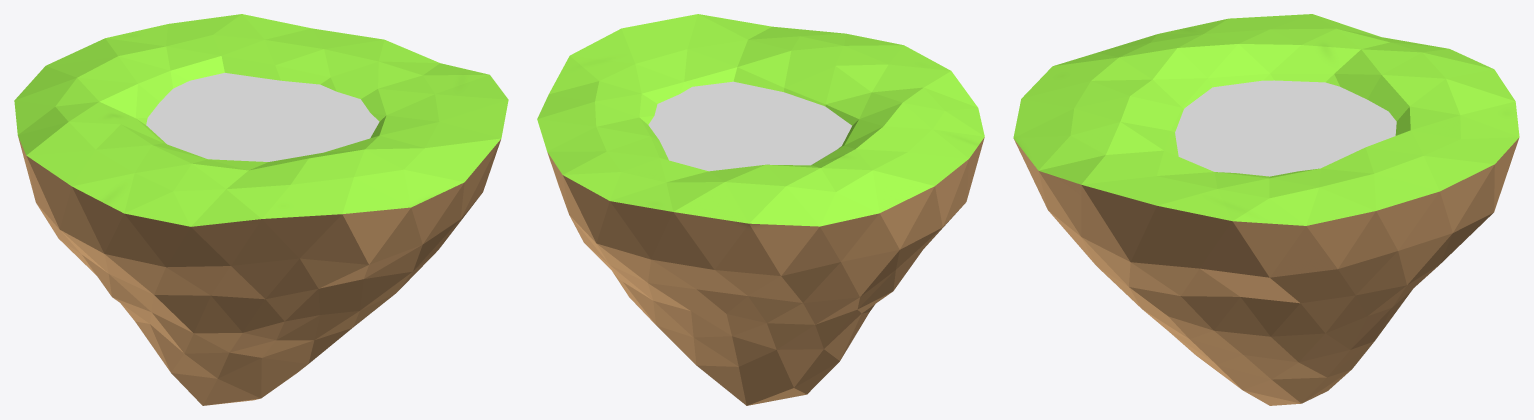
Rendered from WaterSourceIland.fbx.
3 views of the same model, side by side, from view 1: azimuth 30°, elevation 25°; view 2: azimuth 150°, elevation 25°; view 3: azimuth 270°, elevation 25° (orthographic). The views are drawn at different scales.
Parts seen in each view (by area): view 1: FloattingIland, Water; view 2: FloattingIland, Water; view 3: FloattingIland, Water.
Boxes of the visible parts, x1,y1,x2,y2 form: FloattingIland: (14, 14, 508, 405); Water: (146, 73, 379, 161); FloattingIland: (537, 14, 984, 405); Water: (648, 81, 851, 171); FloattingIland: (1013, 14, 1519, 405); Water: (1175, 80, 1396, 176).
Size of the model in its own units: 207 by 138 by 208.
Materials: 1 (1 with a texture image).
